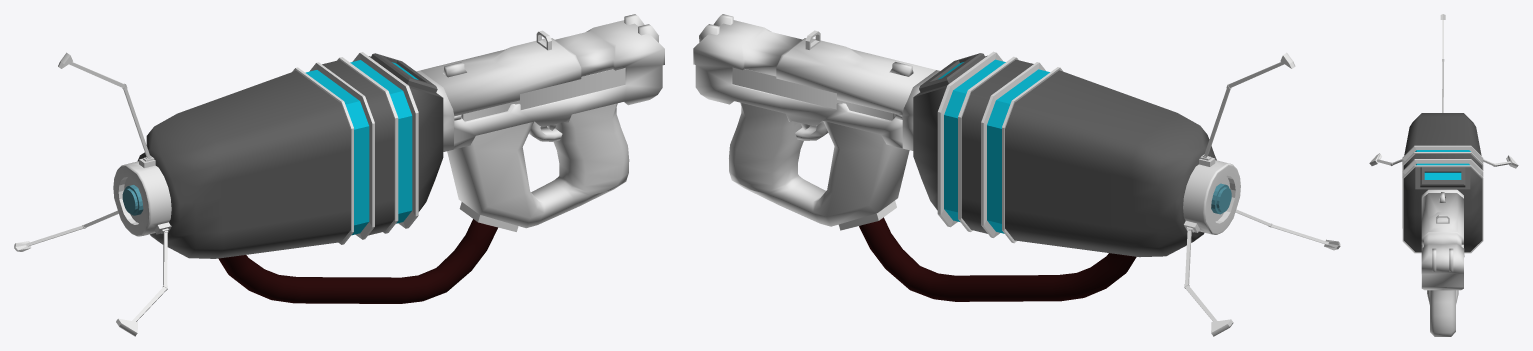
File: GravityGun.fbx
3 views of the same model, side by side, from view 1: azimuth 30°, elevation 25°; view 2: azimuth 150°, elevation 25°; view 3: azimuth 270°, elevation 25° (orthographic). The views are drawn at different scales.
Parts seen in each view (by area): view 1: Body, Pistol1; view 2: Body, Pistol1; view 3: Body, Pistol1.
Part boxes in pixels (<box>): Body: <box>14,52,497,336</box>; Pistol1: <box>416,14,664,231</box>; Body: <box>859,51,1340,336</box>; Pistol1: <box>693,14,939,230</box>; Body: <box>1369,14,1518,253</box>; Pistol1: <box>1421,189,1464,336</box>.
Bounding box in the file's own units: 259 × 139 × 92.2.
